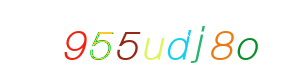5: (88, 0, 168, 80), (104, 0, 184, 80)
8: (143, 0, 223, 80)
9: (36, 0, 116, 80)
D: (127, 0, 207, 80)
J: (140, 0, 220, 80)
O: (154, 0, 234, 80)
U: (112, 0, 192, 80)
